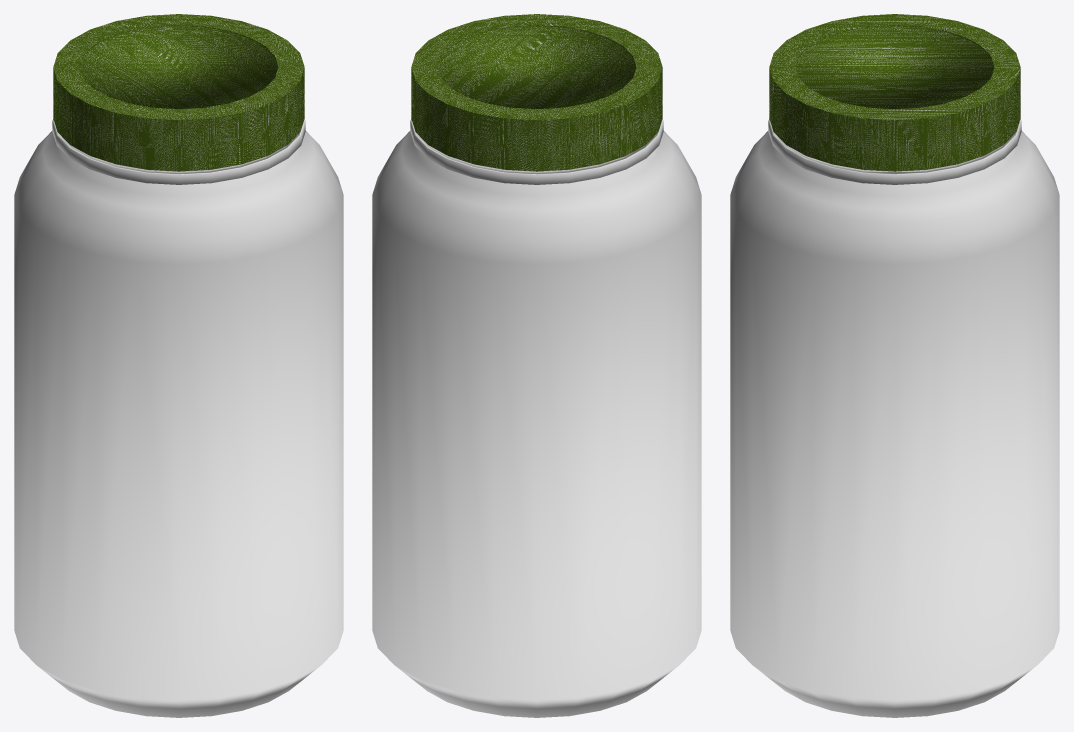
3 renders of one model, left to right at view 1: azimuth 30°, elevation 25°; view 2: azimuth 150°, elevation 25°; view 3: azimuth 270°, elevation 25°, orthographic.
Visible parts, largest first — view 1: mesh1_mesh1-geometry; view 2: mesh1_mesh1-geometry; view 3: mesh1_mesh1-geometry.
Boxes of the visible parts, left/top/right/bottom form: mesh1_mesh1-geometry: left=14, top=14, right=343, bottom=717; mesh1_mesh1-geometry: left=372, top=14, right=701, bottom=717; mesh1_mesh1-geometry: left=730, top=14, right=1059, bottom=717.
Bounding box in the file's own units: 0.4082 × 0.8165 × 0.4082.
